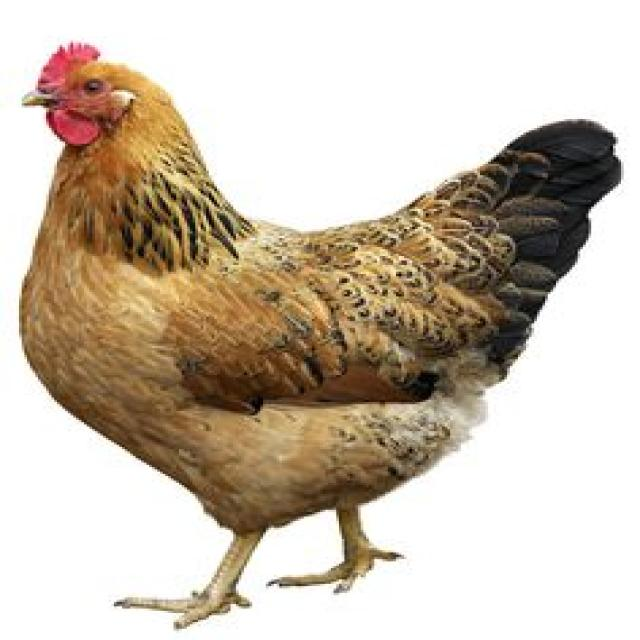Herbivorous: (19, 43, 624, 631)
